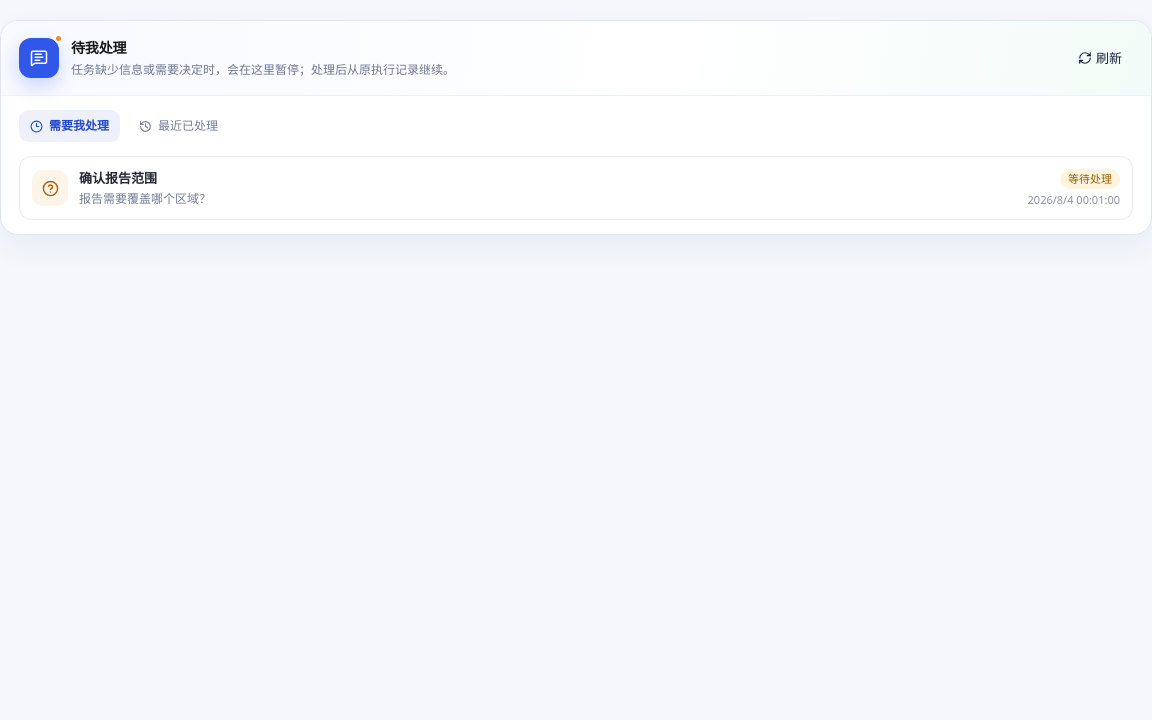
展示动态澄清问题并读取原执行的权威状态
Click the button "确认报告范围 报告需要覆盖哪个区域？ 等待处理 2026/8/4 00:01:00" at (50,188), box x1=19 y1=156 x2=1133 y2=220
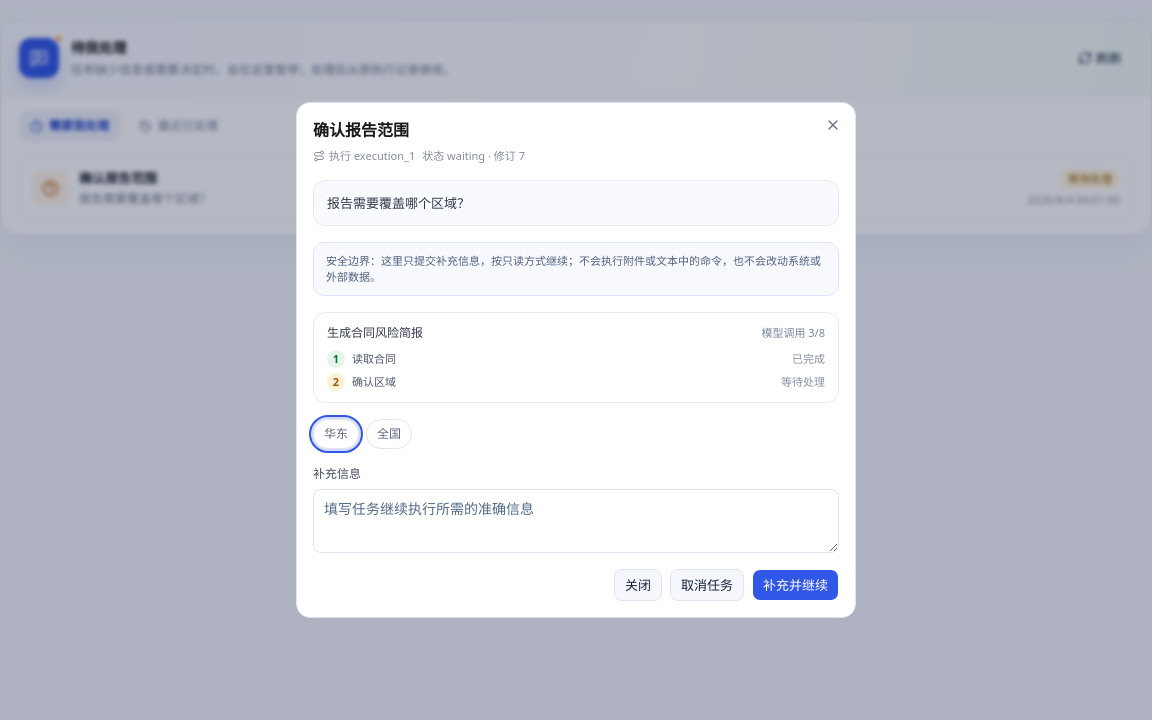
Expected: the text "状态 waiting · 修订 7" is shown, x1=422 y1=148 x2=525 y2=164
Expected: the text "生成合同风险简报" is shown, x1=327 y1=324 x2=423 y2=342
Expected: the text "模型调用 3/8" is shown, x1=762 y1=325 x2=825 y2=341
